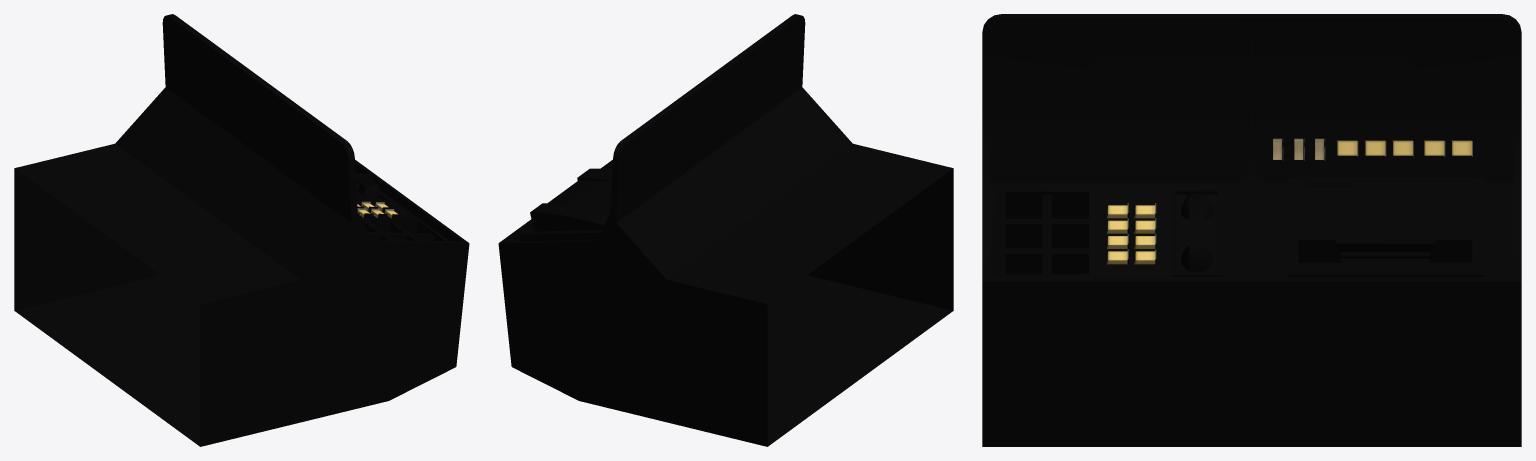
Rendered from props_spytech_control_room_console03.glb.
The picture shows the model from 3 angles, left to right: view 1: azimuth 30°, elevation 25°; view 2: azimuth 150°, elevation 25°; view 3: azimuth 270°, elevation 25°; orthographic projection. The views are drawn at different scales.
Visible parts, largest first — view 1: models/props_spytech/control_room_console03; view 2: models/props_spytech/control_room_console03; view 3: models/props_spytech/control_room_console03.
Boxes of the visible parts, x1=… form: models/props_spytech/control_room_console03: x1=14, y1=14, x2=469, y2=446; models/props_spytech/control_room_console03: x1=498, y1=14, x2=953, y2=446; models/props_spytech/control_room_console03: x1=982, y1=14, x2=1521, y2=446.
Size of the model in its own units: 66.86 by 62.5 by 80.
Materials: 1 (1 with a texture image).
